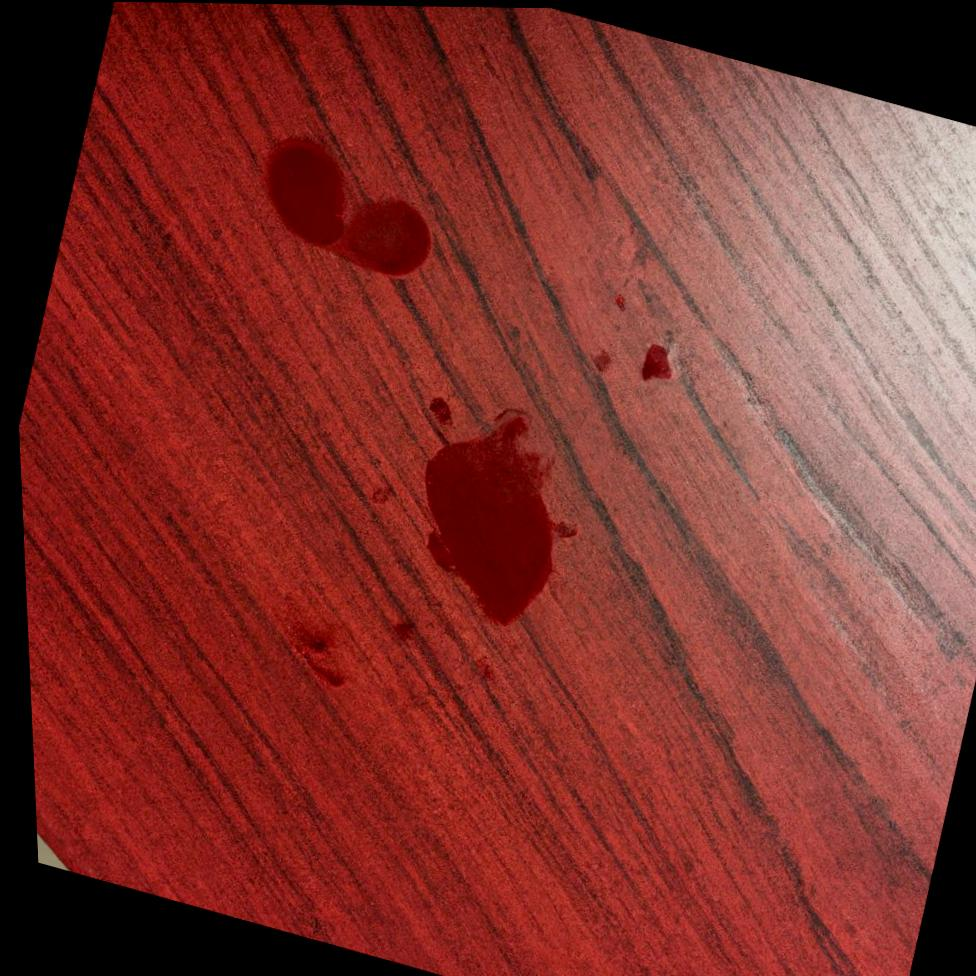Fire: (419, 414, 573, 624), (288, 641, 337, 687), (636, 342, 668, 379), (424, 396, 448, 426), (589, 348, 607, 373), (386, 621, 408, 641), (295, 639, 321, 652)
